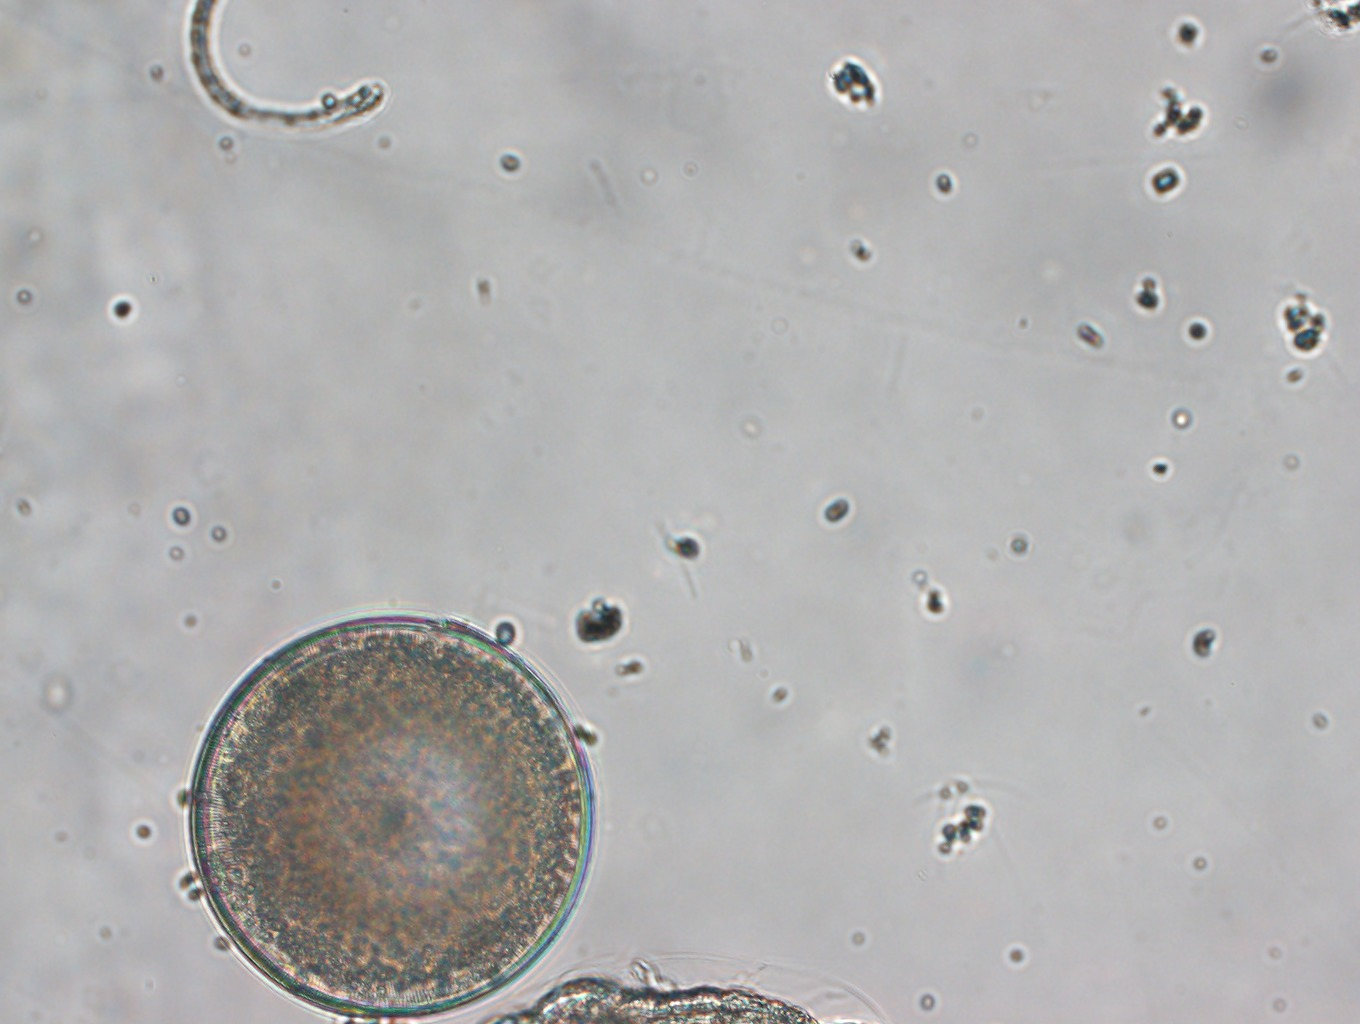coscinodiscus: (176, 605, 601, 1016)
